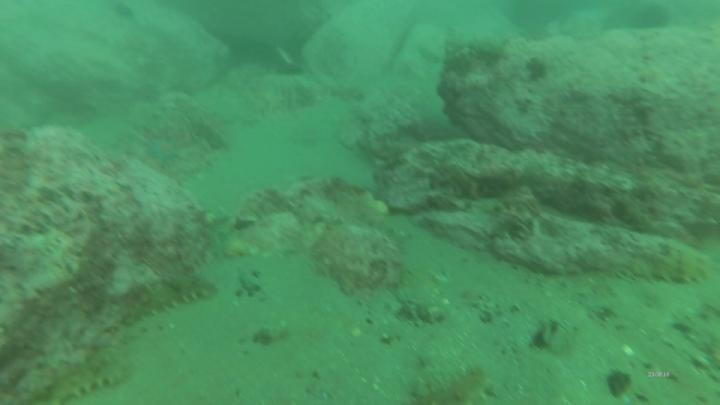holothurian: (43, 342, 133, 404), (129, 272, 219, 317), (416, 360, 491, 405), (634, 247, 709, 289), (446, 34, 509, 65)
starfish: (147, 138, 183, 165)
